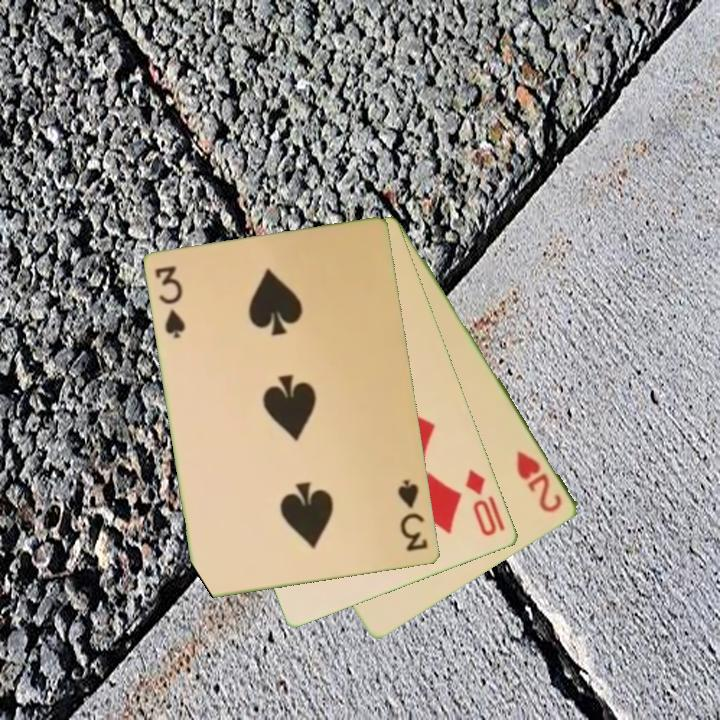10d: (462, 465, 501, 540)
2h: (513, 446, 566, 516)
3s: (394, 476, 432, 555), (152, 262, 189, 342)
